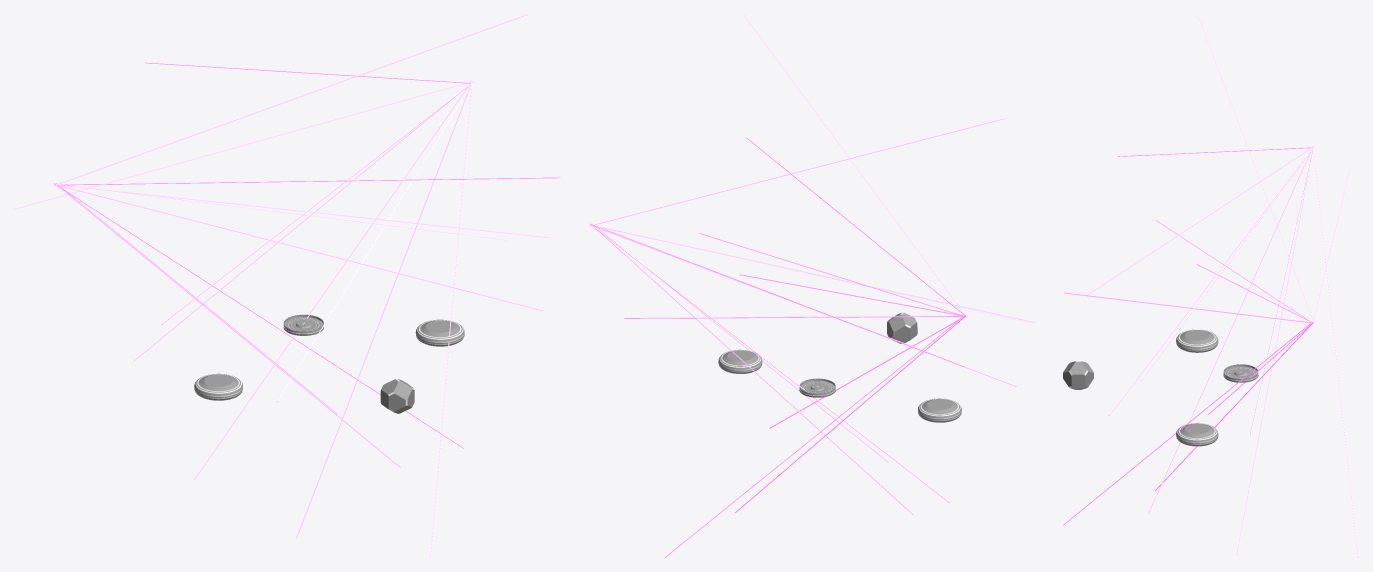
File: AI Art Structure.fbx
The picture shows the model from 3 angles, left to right: view 1: azimuth 30°, elevation 25°; view 2: azimuth 150°, elevation 25°; view 3: azimuth 270°, elevation 25°; orthographic projection. The views are drawn at different scales.
Visible parts, largest first — view 1: Structure01; view 2: Structure01; view 3: Structure01.
Part boxes in pixels (bbox=[...]): Structure01: bbox=[14, 14, 560, 557]; Structure01: bbox=[589, 14, 1034, 557]; Structure01: bbox=[1063, 14, 1358, 557].
Bounding box in the file's own units: 19930 × 21288 × 13469.
